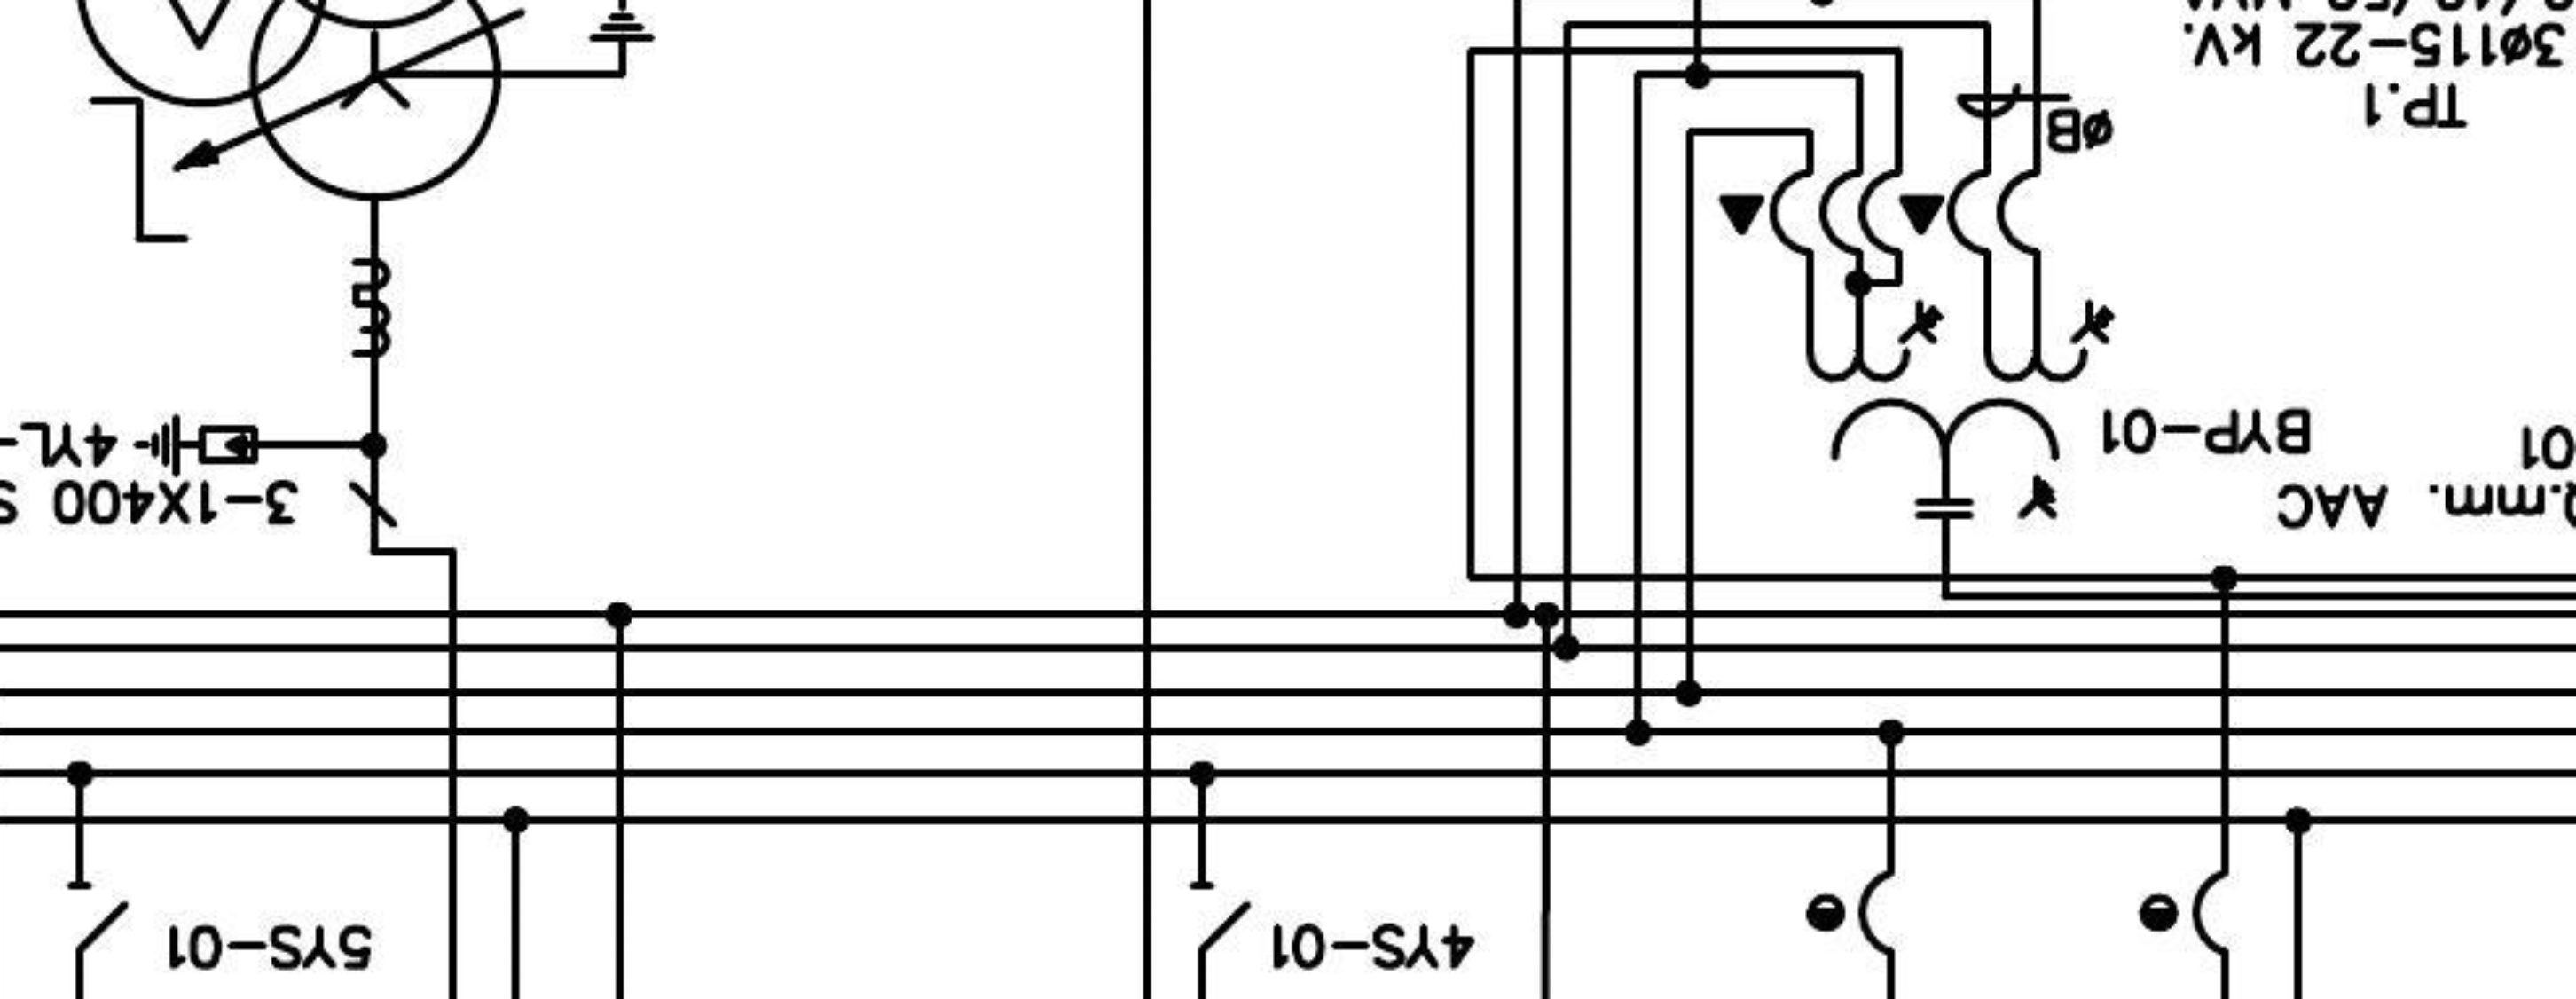115_cvt_3p: (1804, 297, 2118, 521)
115_ds: (1186, 881, 1252, 955), (64, 881, 130, 953)
115_la: (131, 411, 258, 480)
